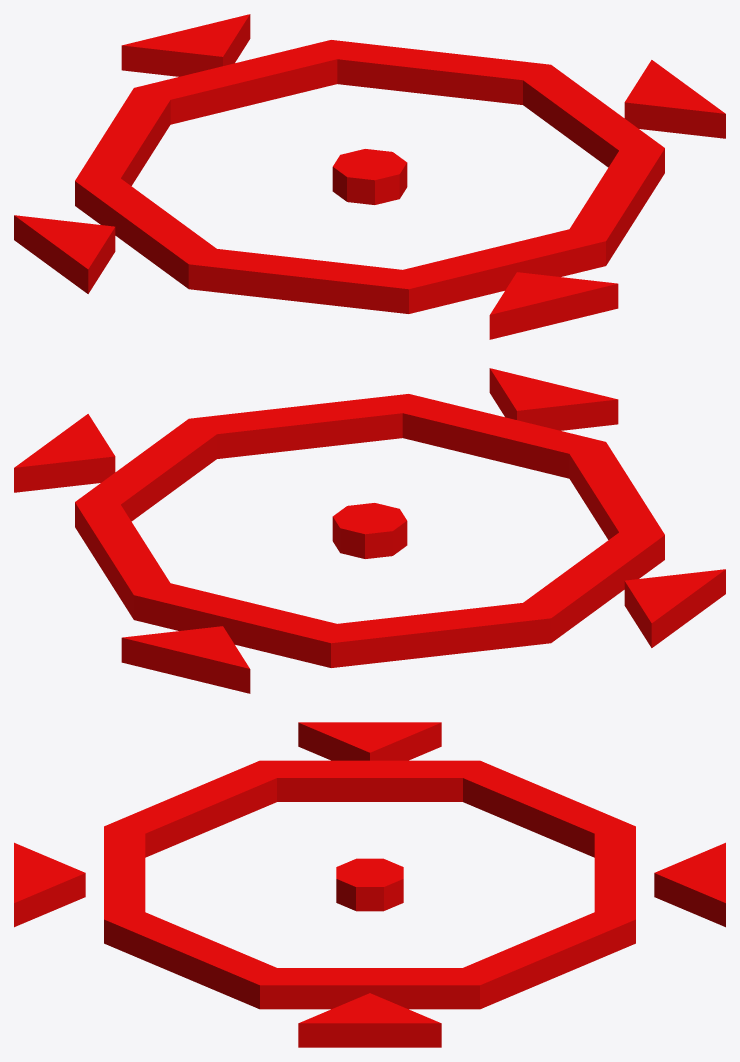
File: Proto_Symbol_Target_Location_01.fbx
3 views of the same model, one above another, from view 1: azimuth 30°, elevation 25°; view 2: azimuth 150°, elevation 25°; view 3: azimuth 270°, elevation 25° (orthographic). The views are drawn at different scales.
Parts seen in each view (by area): view 1: Proto_Symbol_Target_Location_01; view 2: Proto_Symbol_Target_Location_01; view 3: Proto_Symbol_Target_Location_01.
Boxes of the visible parts, x1,y1,x2,y2 form: Proto_Symbol_Target_Location_01: (14, 14, 725, 339); Proto_Symbol_Target_Location_01: (14, 368, 725, 693); Proto_Symbol_Target_Location_01: (14, 722, 725, 1047).
Size of the model in its own units: 0.6695 by 0.025 by 0.6695.
